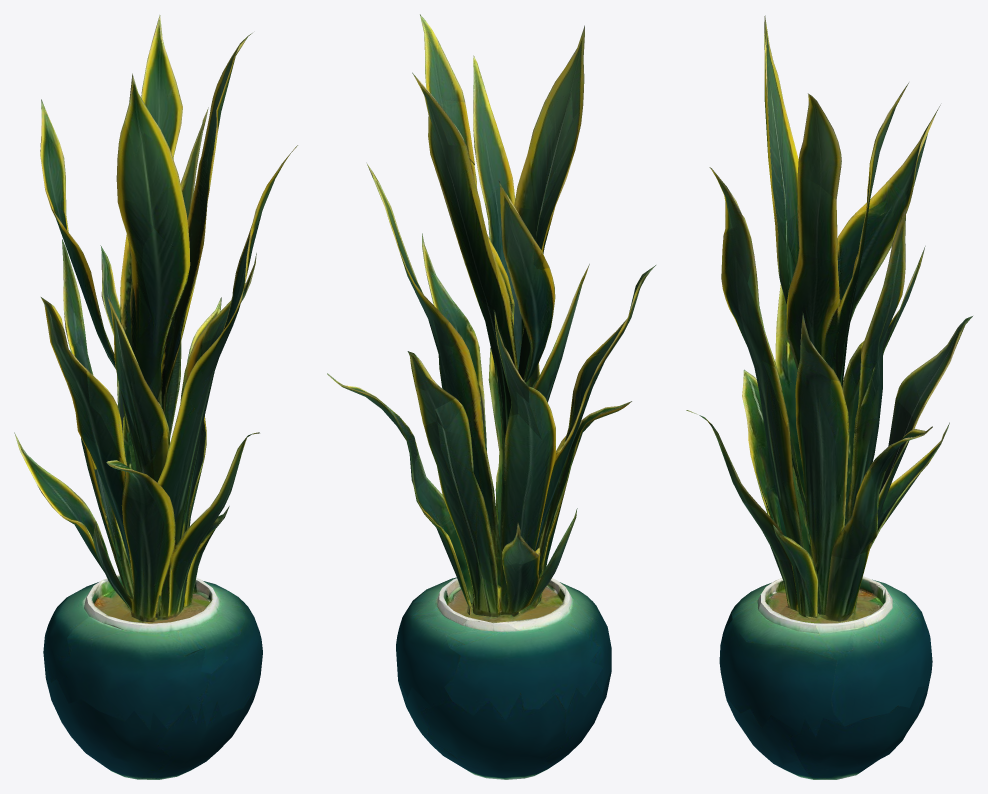
The model's file is plant.glb.
3 views of the same model, side by side, from view 1: azimuth 30°, elevation 25°; view 2: azimuth 150°, elevation 25°; view 3: azimuth 270°, elevation 25° (orthographic).
Bounding box in the file's own units: 0.3506 × 0.95 × 0.3431.
1 material, 1 textured.
